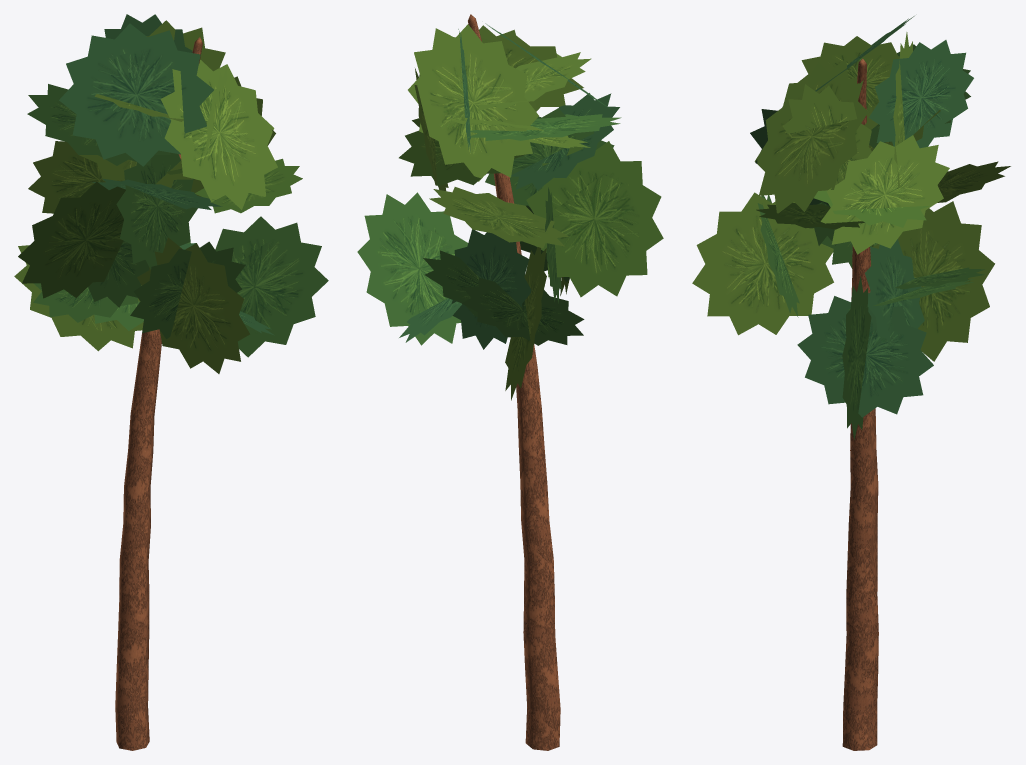
File: hero_pine_b_lod1.obj
The picture shows the model from 3 angles, left to right: view 1: azimuth 30°, elevation 25°; view 2: azimuth 150°, elevation 25°; view 3: azimuth 270°, elevation 25°; orthographic projection. The views are drawn at different scales.
Visible parts, largest first — view 1: hero_pine_b_lod1; view 2: hero_pine_b_lod1; view 3: hero_pine_b_lod1.
Part boxes in pixels (box(x1,y1,x2,y2)): hero_pine_b_lod1: box(14, 14, 328, 750); hero_pine_b_lod1: box(357, 14, 663, 750); hero_pine_b_lod1: box(692, 16, 1010, 750).
Size of the model in its own units: 6.58 by 14.49 by 5.73.
Materials: 2 (2 with a texture image).
